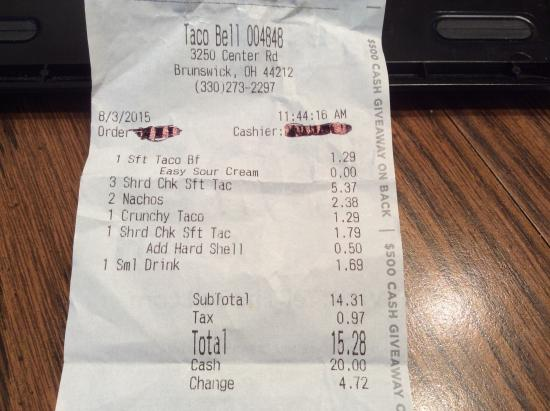Taco Bell: (180, 19, 244, 50)
